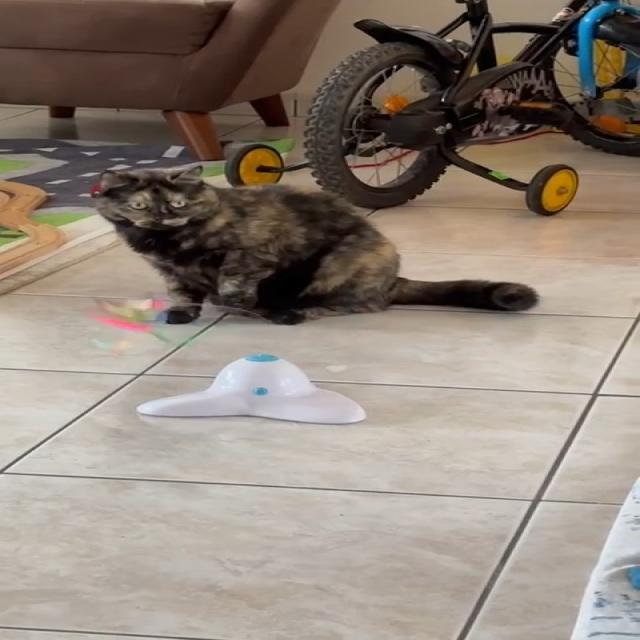authorized: (89, 162, 539, 326)
